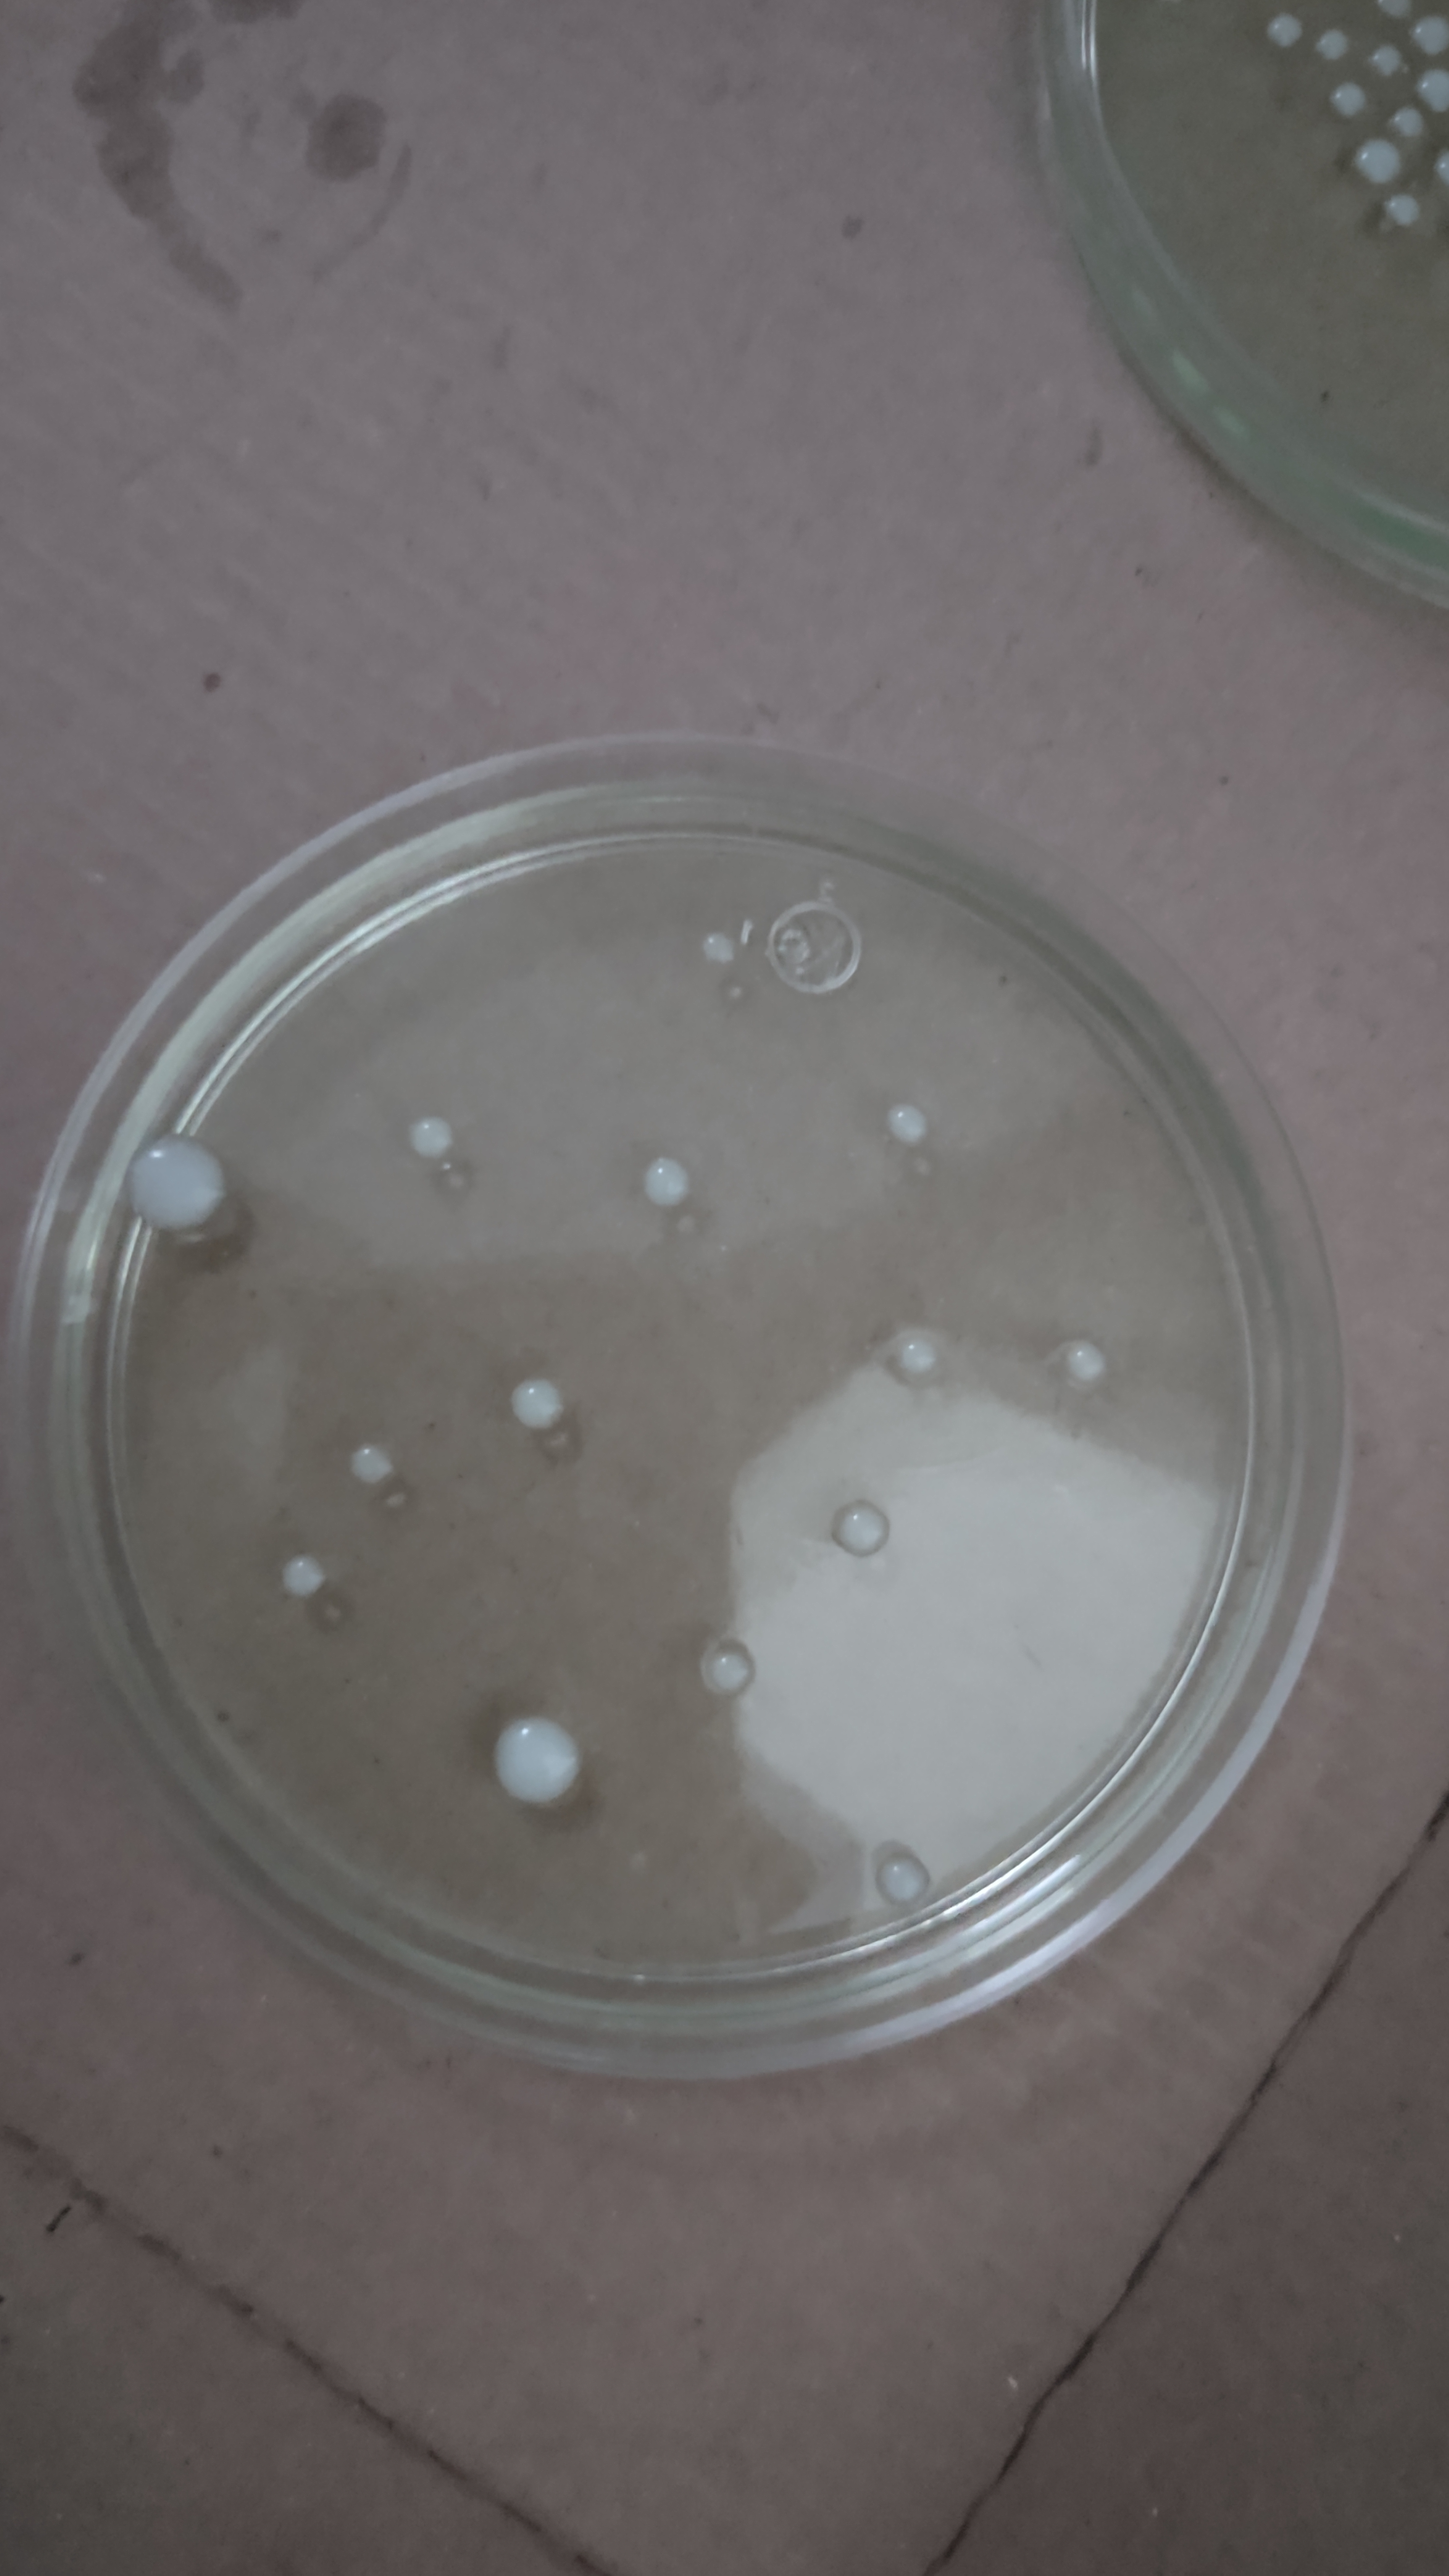Colonia: (119, 1132, 226, 1233), (492, 1720, 577, 1803), (824, 1495, 897, 1553), (510, 1373, 577, 1426), (1060, 1334, 1115, 1389), (640, 1154, 695, 1207), (702, 1640, 761, 1690), (881, 1106, 939, 1150), (343, 1437, 396, 1483), (280, 1555, 336, 1596), (876, 1854, 925, 1898), (895, 1325, 936, 1375), (410, 1115, 458, 1152), (702, 929, 740, 968)
